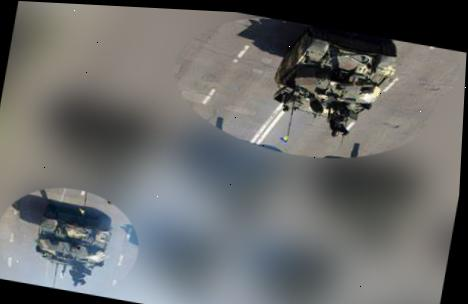tank: (261, 18, 406, 151), (23, 199, 116, 291)
